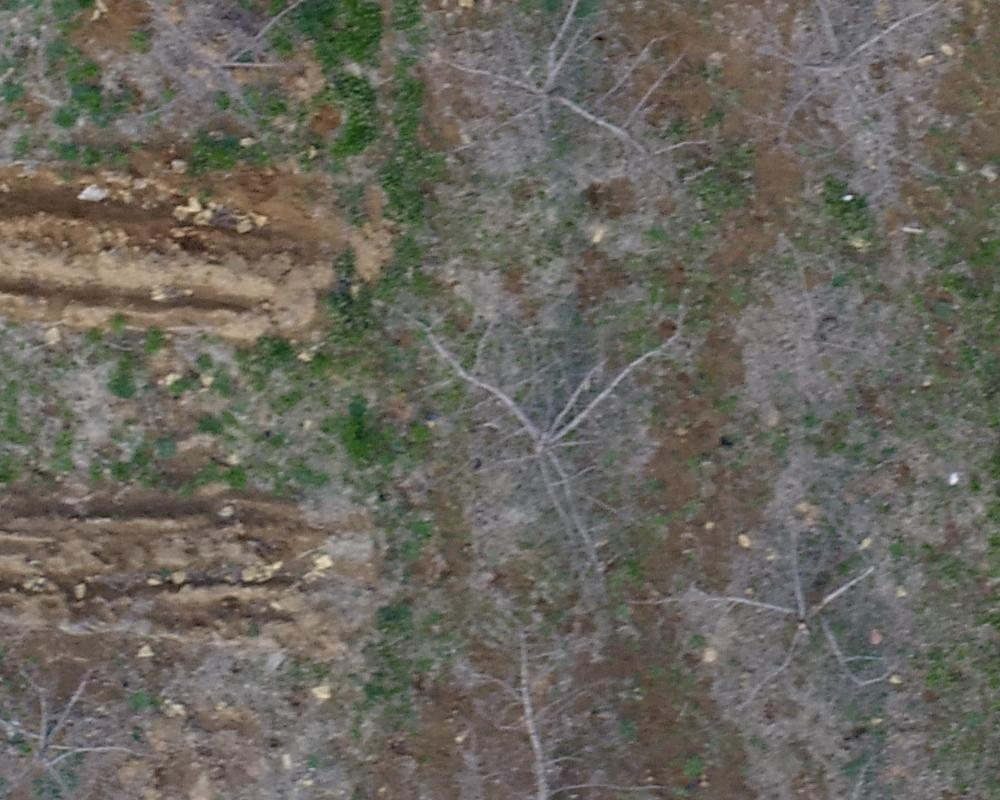apple: (387, 292, 711, 611), (391, 10, 713, 195), (649, 530, 934, 710), (716, 10, 973, 146), (149, 10, 358, 140), (10, 633, 135, 790)
